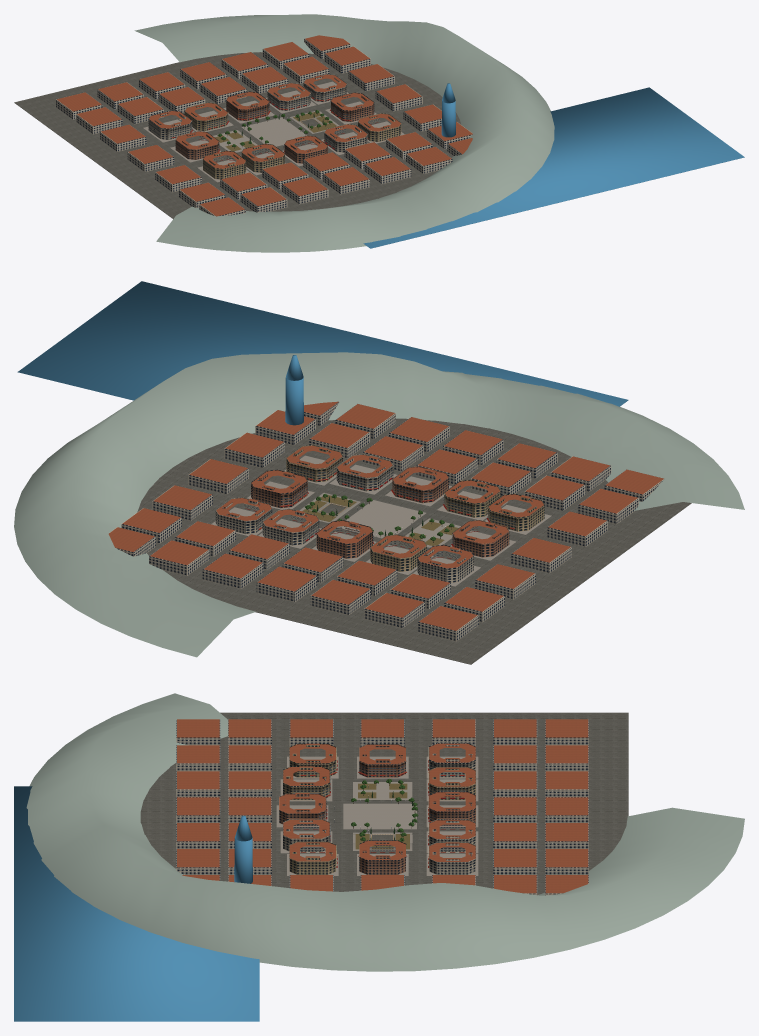
File: eixample.glb
3 views of the same model, one above another, from view 1: azimuth 30°, elevation 25°; view 2: azimuth 150°, elevation 25°; view 3: azimuth 270°, elevation 25° (orthographic). The views are drawn at different scales.
Visible parts, largest first — view 1: Barcelona_HorizonHills, Eixample_Roofs, Barcelona_MediterraneanSea, Eixample_Streets, Eixample_DistantCity, Eixample_Sidewalks, Eixample_BuildingsTerra, Eixample_BuildingsOchre, Eixample_BuildingsCream, Eixample_BalconiesIron, Eixample_ParkLawns; view 2: Barcelona_HorizonHills, Eixample_Roofs, Eixample_Streets, Barcelona_MediterraneanSea, Eixample_DistantCity, Eixample_Sidewalks, Eixample_BuildingsTerra, Eixample_BuildingsCream, Eixample_BuildingsOchre, Eixample_BalconiesIron, Eixample_ParkLawns; view 3: Barcelona_HorizonHills, Eixample_Roofs, Barcelona_MediterraneanSea, Eixample_Streets, Eixample_DistantCity, Eixample_Sidewalks, Eixample_BuildingsTerra, Eixample_BuildingsOchre, Eixample_BuildingsCream, Eixample_BalconiesIron, Eixample_ParkLawns.
Boxes of the visible parts, left/top/right/bottom form: Barcelona_HorizonHills: left=134, top=14, right=554, bottom=252; Eixample_Roofs: left=57, top=35, right=472, bottom=216; Barcelona_MediterraneanSea: left=363, top=83, right=744, bottom=248; Eixample_Streets: left=14, top=52, right=460, bottom=218; Eixample_DistantCity: left=56, top=38, right=472, bottom=216; Eixample_Sidewalks: left=143, top=81, right=404, bottom=182; Eixample_BuildingsTerra: left=175, top=91, right=374, bottom=163; Eixample_BuildingsOchre: left=184, top=102, right=401, bottom=179; Eixample_BuildingsCream: left=148, top=74, right=367, bottom=152; Eixample_BalconiesIron: left=159, top=76, right=381, bottom=166; Eixample_ParkLawns: left=215, top=112, right=336, bottom=151; Barcelona_HorizonHills: left=14, top=352, right=744, bottom=657; Eixample_Roofs: left=108, top=401, right=663, bottom=630; Eixample_Streets: left=137, top=418, right=691, bottom=664; Barcelona_MediterraneanSea: left=17, top=281, right=628, bottom=425; Eixample_DistantCity: left=110, top=402, right=664, bottom=641; Eixample_Sidewalks: left=211, top=455, right=551, bottom=586; Eixample_BuildingsTerra: left=251, top=466, right=509, bottom=558; Eixample_BuildingsCream: left=215, top=454, right=473, bottom=582; Eixample_BuildingsOchre: left=286, top=445, right=544, bottom=571; Eixample_BalconiesIron: left=222, top=452, right=536, bottom=562; Eixample_ParkLawns: left=302, top=495, right=458, bottom=545; Barcelona_HorizonHills: left=26, top=693, right=744, bottom=971; Eixample_Roofs: left=177, top=719, right=588, bottom=893; Barcelona_MediterraneanSea: left=14, top=786, right=259, bottom=1021; Eixample_Streets: left=140, top=712, right=628, bottom=895; Eixample_DistantCity: left=176, top=719, right=588, bottom=895; Eixample_Sidewalks: left=276, top=756, right=478, bottom=875; Eixample_BuildingsTerra: left=279, top=744, right=475, bottom=874; Eixample_BuildingsOchre: left=283, top=743, right=475, bottom=874; Eixample_BuildingsCream: left=283, top=743, right=475, bottom=874; Eixample_BalconiesIron: left=285, top=750, right=471, bottom=860; Eixample_ParkLawns: left=355, top=783, right=409, bottom=849.
Bounding box in the file's own units: 1209 × 132 × 1130.
16 materials, 12 textured.
